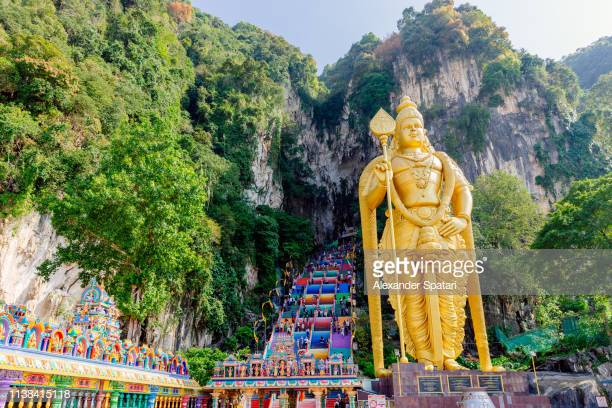Hindu Temple: (351, 97, 489, 367)
